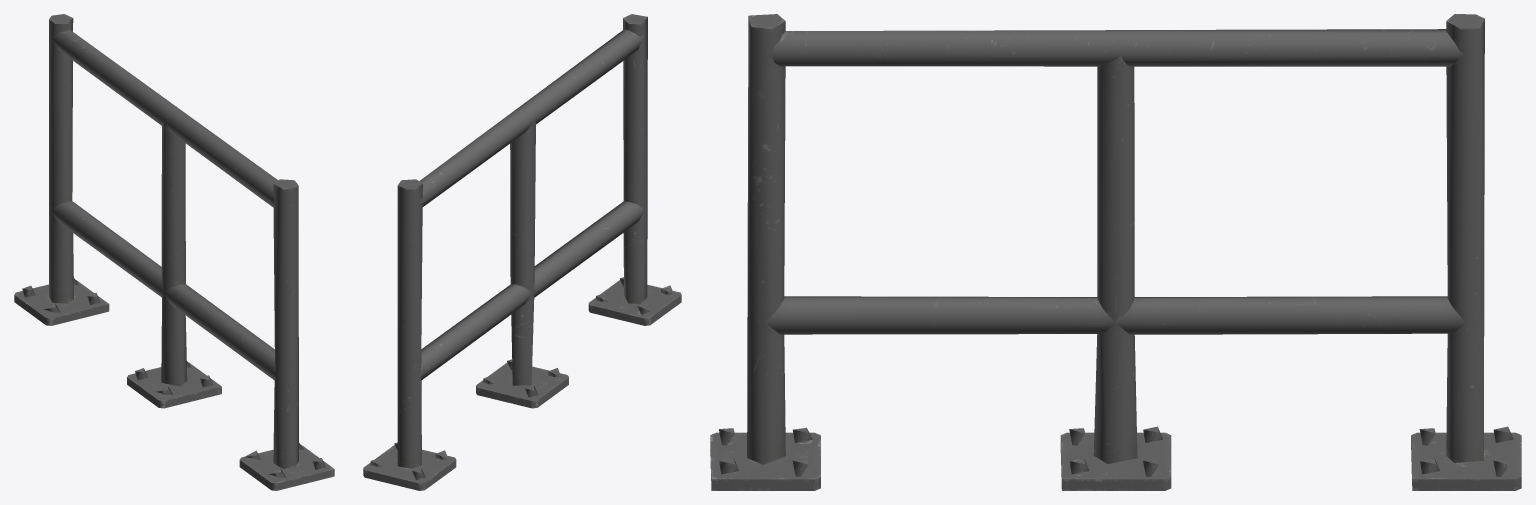
Rendered from SM_FenceA_01.fbx.
The picture shows the model from 3 angles, left to right: view 1: azimuth 30°, elevation 25°; view 2: azimuth 150°, elevation 25°; view 3: azimuth 270°, elevation 25°; orthographic projection. The views are drawn at different scales.
Parts seen in each view (by area): view 1: SM_Fence_A_01_LOD2; view 2: SM_Fence_A_01_LOD2; view 3: SM_Fence_A_01_LOD2.
Boxes of the visible parts, x1,y1,x2,y2 form: SM_Fence_A_01_LOD2: (14,14,334,490); SM_Fence_A_01_LOD2: (363,14,681,490); SM_Fence_A_01_LOD2: (710,14,1521,490).
Bounding box in the file's own units: 23.69 × 105 × 174.
